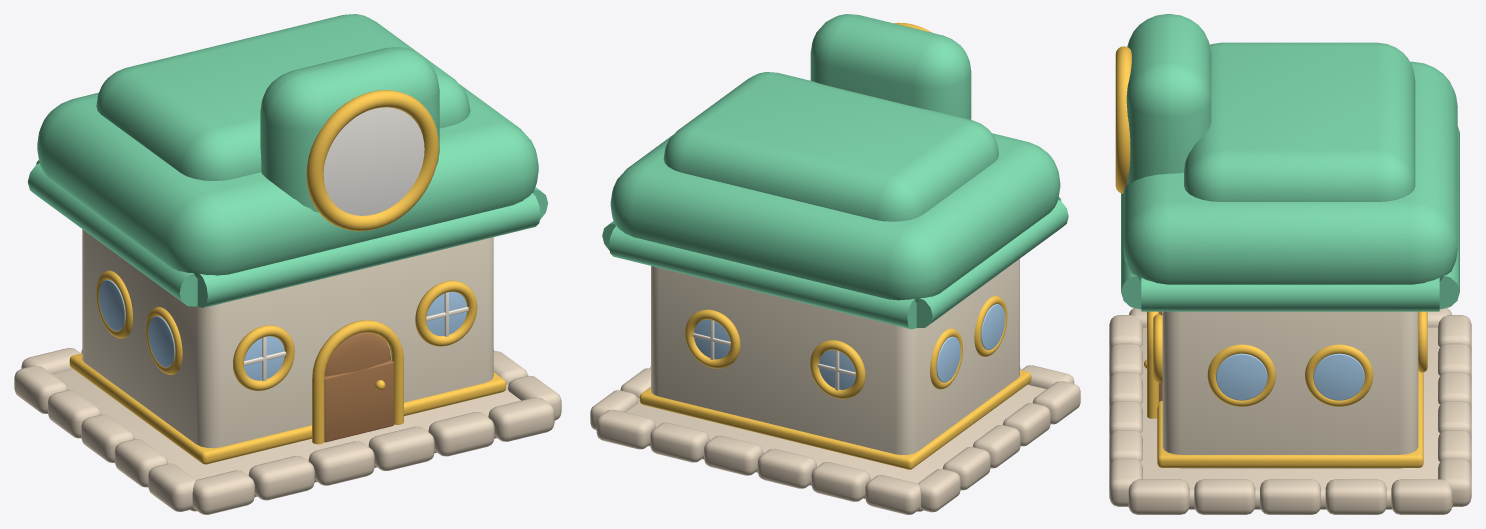
File: Building.glb
3 views of the same model, side by side, from view 1: azimuth 30°, elevation 25°; view 2: azimuth 150°, elevation 25°; view 3: azimuth 270°, elevation 25° (orthographic). The views are drawn at different scales.
Visible parts, largest first — view 1: Building__roof, Building__wall, Building__stone, Building__gold, Building__plaque, Building__door, Building__glass, Building__frame; view 2: Building__roof, Building__wall, Building__stone, Building__gold, Building__glass, Building__frame; view 3: Building__roof, Building__wall, Building__stone, Building__gold, Building__glass.
Boxes of the visible parts, x1,y1,x2,y2 form: Building__roof: (28, 14, 548, 307); Building__wall: (82, 229, 493, 448); Building__stone: (14, 348, 561, 514); Building__gold: (69, 90, 506, 464); Building__plaque: (323, 107, 424, 215); Building__door: (324, 332, 393, 442); Building__glass: (98, 279, 467, 380); Building__frame: (244, 292, 468, 381); Building__roof: (602, 14, 1068, 329); Building__wall: (651, 259, 1019, 454); Building__stone: (590, 365, 1080, 514); Building__gold: (639, 22, 1031, 469); Building__glass: (694, 304, 1004, 389); Building__frame: (692, 320, 855, 390); Building__roof: (1121, 14, 1459, 311); Building__wall: (1162, 311, 1418, 468); Building__stone: (1109, 308, 1471, 514); Building__gold: (1115, 46, 1427, 467); Building__glass: (1216, 353, 1364, 400).
Size of the model in its own units: 14.5 by 14 by 11.9.
